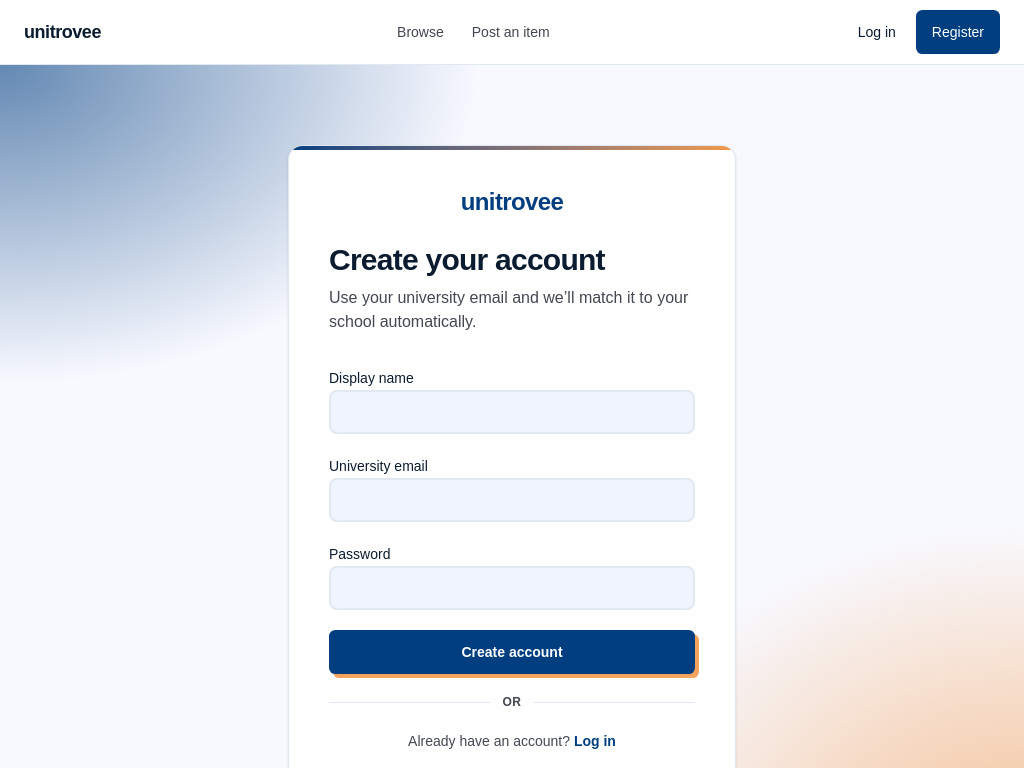
Test: RegisterPage › shows a format error for an invalid university email
In the field labelled "Display name": (512,412) [329,390,695,434], type "Aoife Murphy"
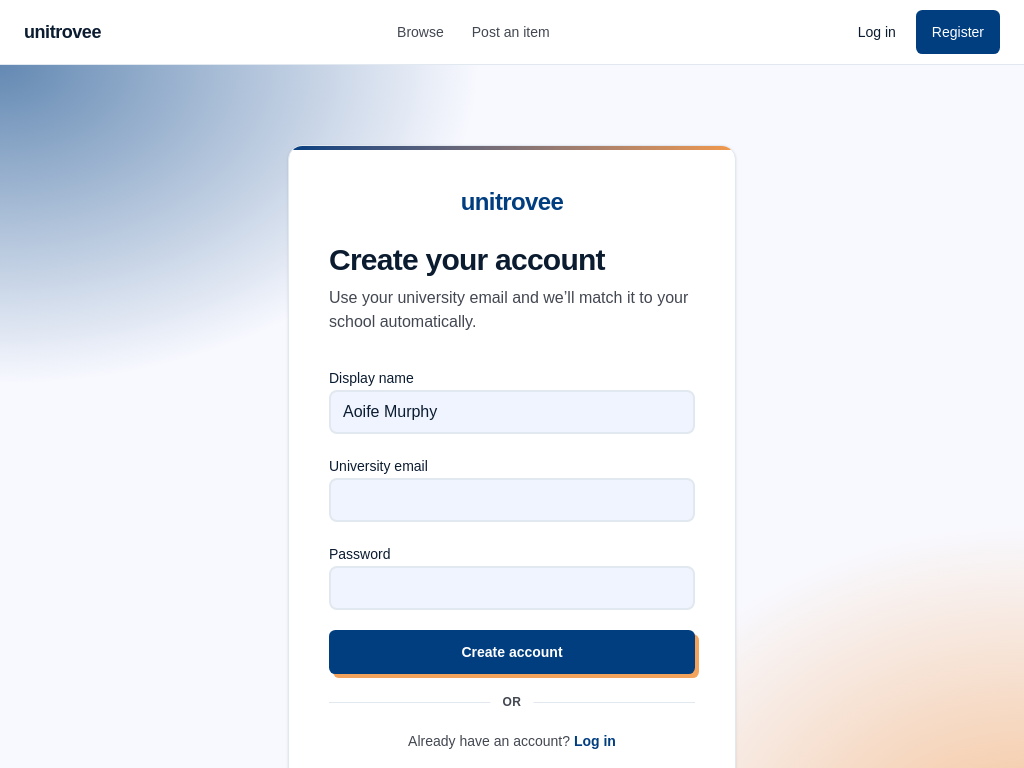
In the field labelled "University email": (512,500) [329,478,695,522], type "not-an-email"
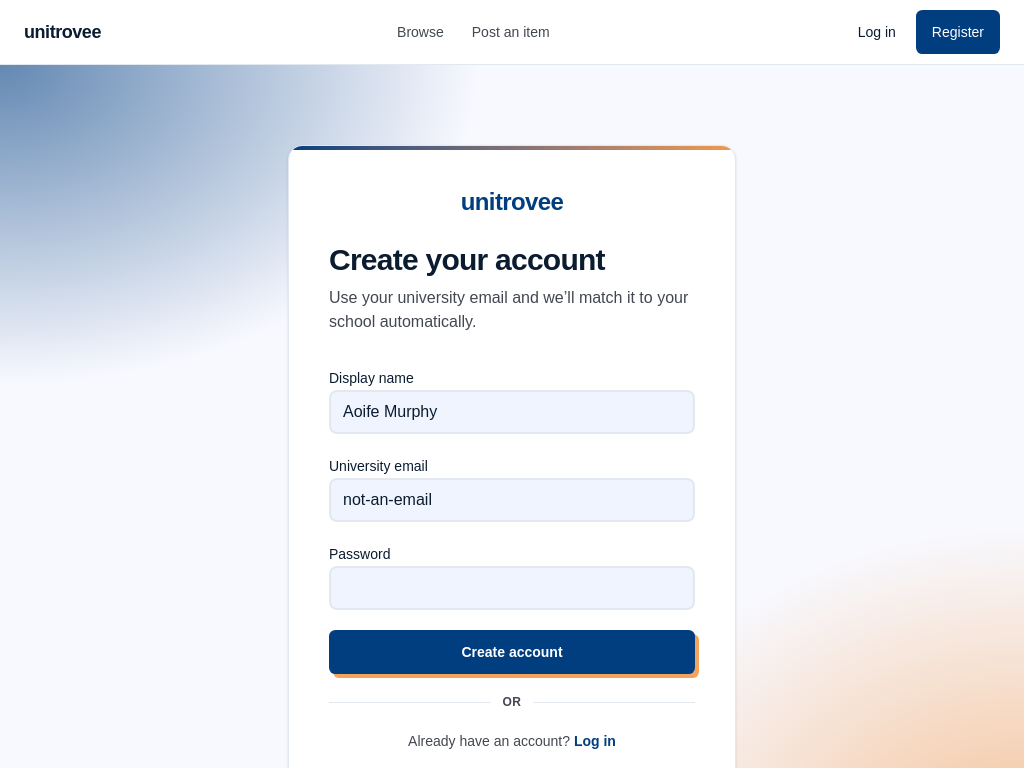
Click the button "Create account": (512,652) [329,630,695,674]
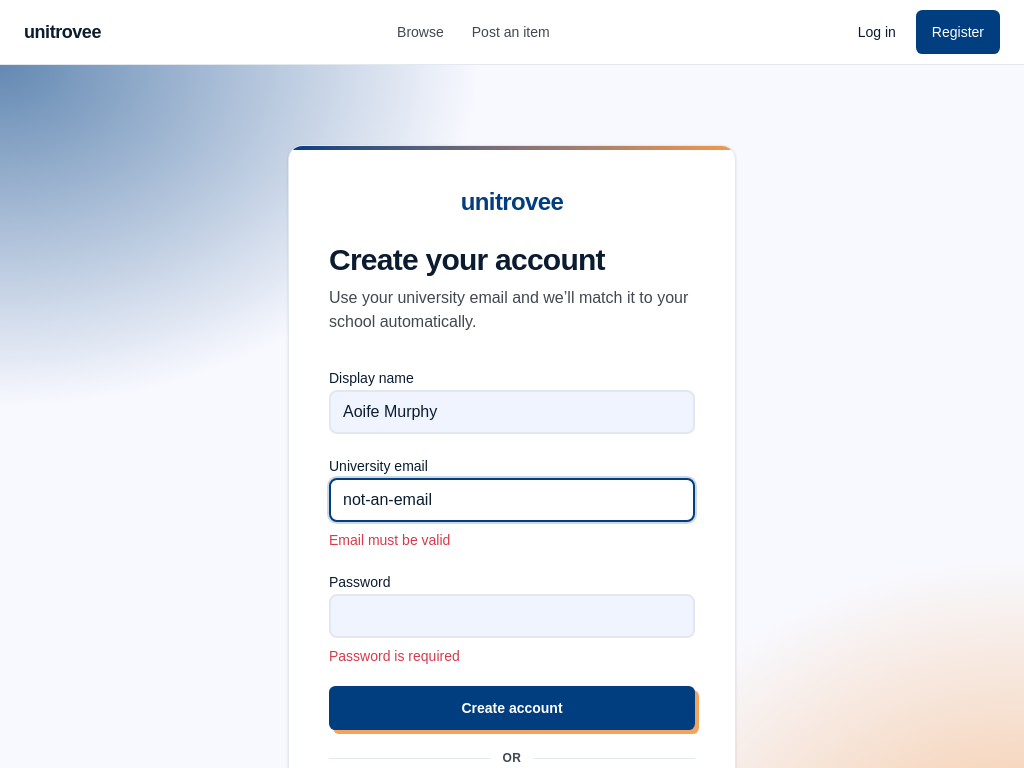
Expected: the text "Email must be valid" is shown, [329,532,450,548]
